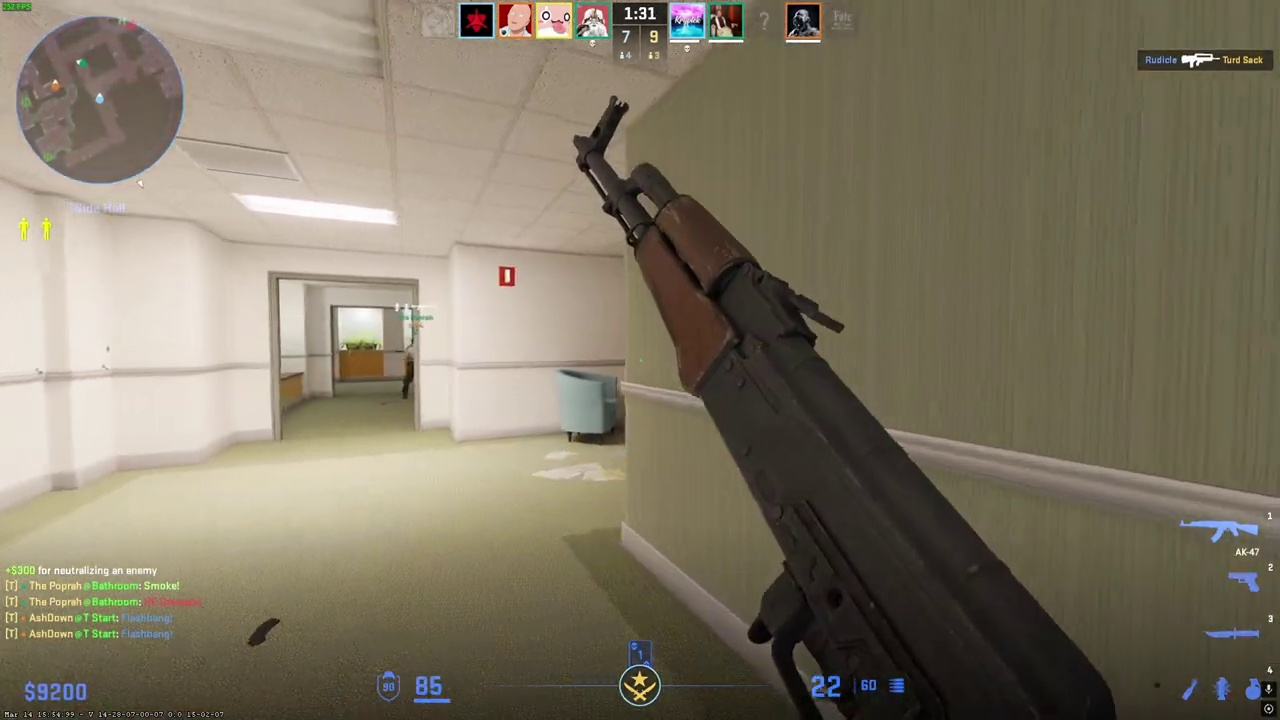Terrorist: (402, 338, 414, 399)
